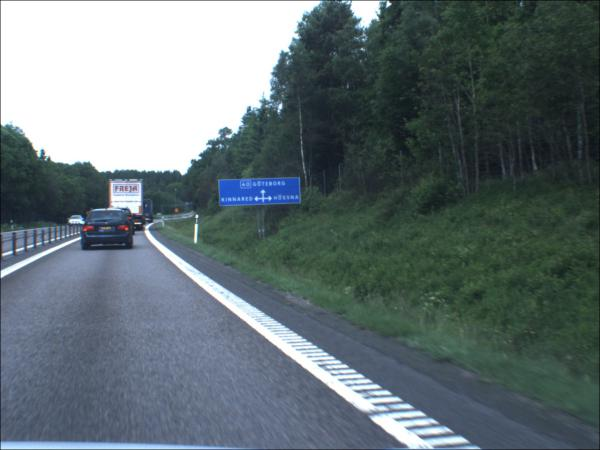70_SIGN: (176, 210, 181, 215)
